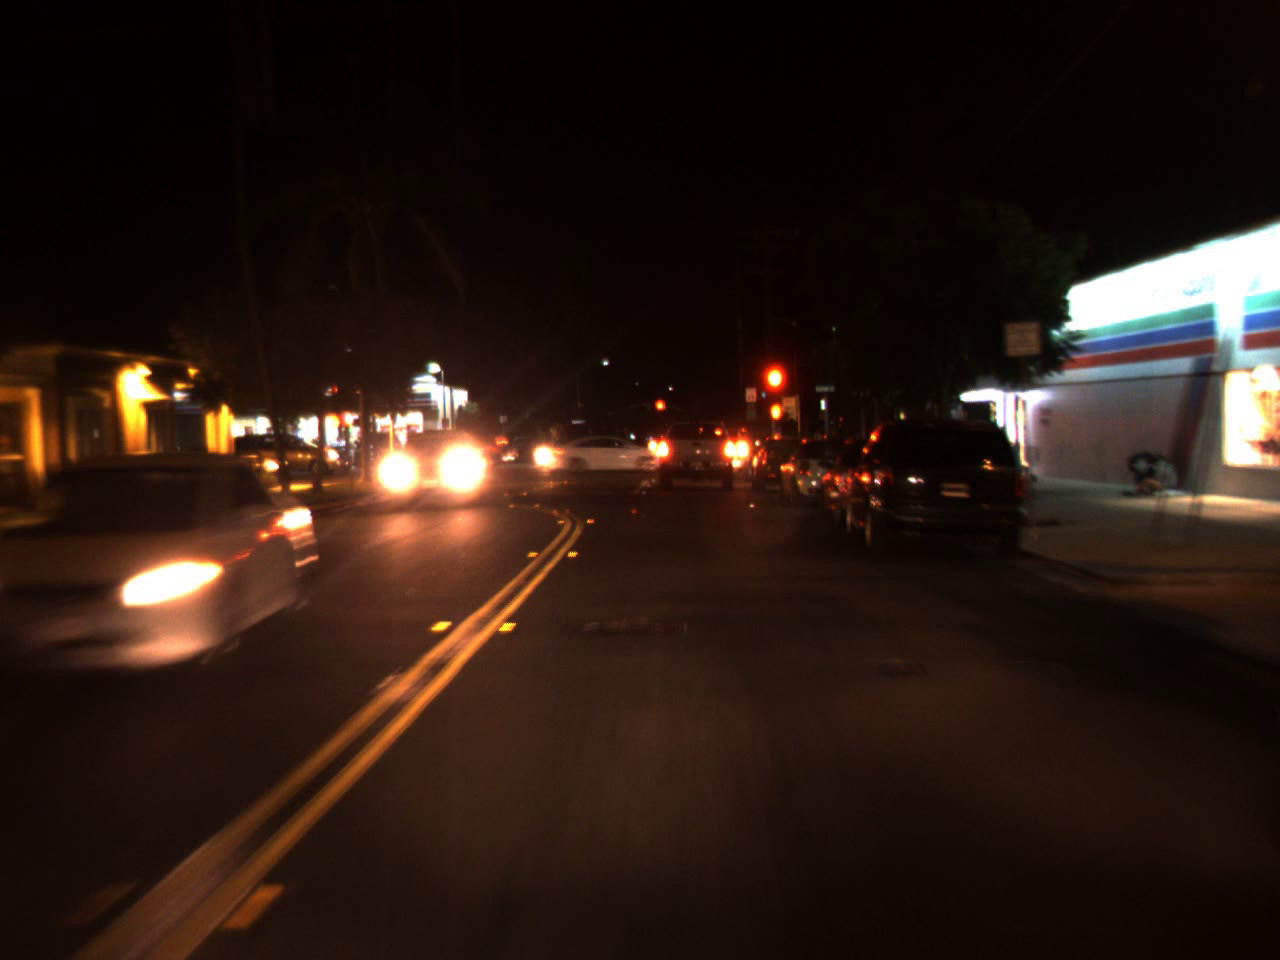stop: (758, 359, 791, 429), (653, 397, 666, 424), (325, 385, 340, 398)
